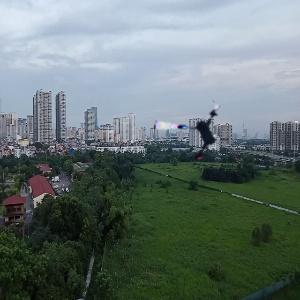drone: (154, 98, 236, 180)
